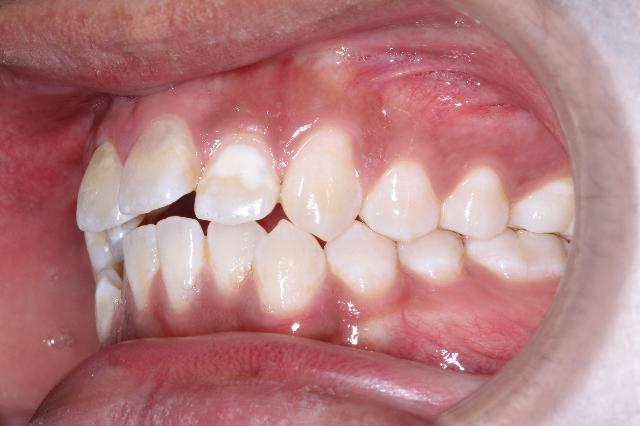canine class III 1/4: (252, 119, 398, 321)
molar class III 1/2: (466, 155, 580, 287)
